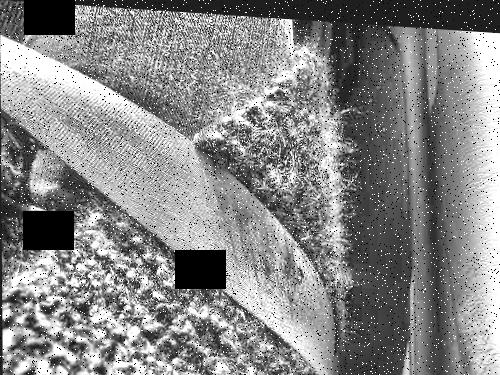seatbelt: (24, 37, 331, 327)
